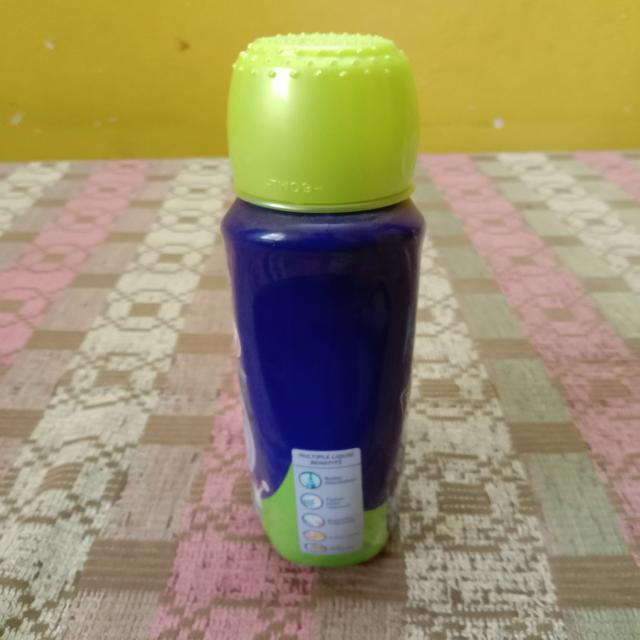detergent: (217, 28, 446, 576)
